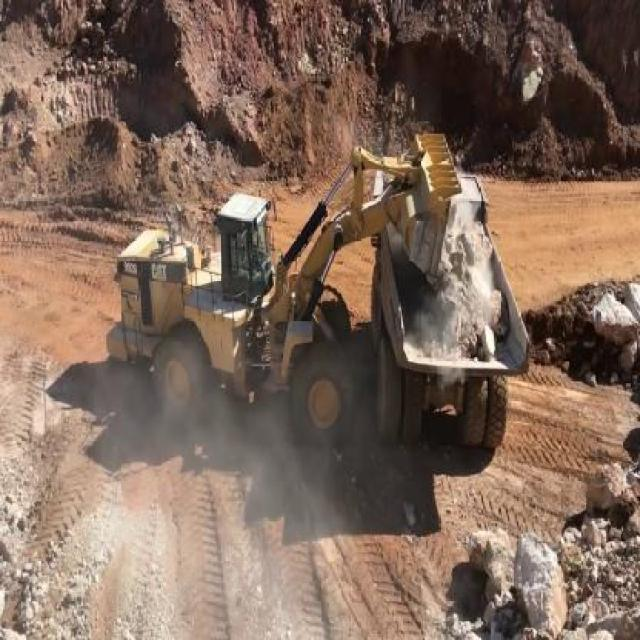buldozerpayloadergrader: (105, 133, 460, 452)
dump_truck: (375, 168, 531, 444)
